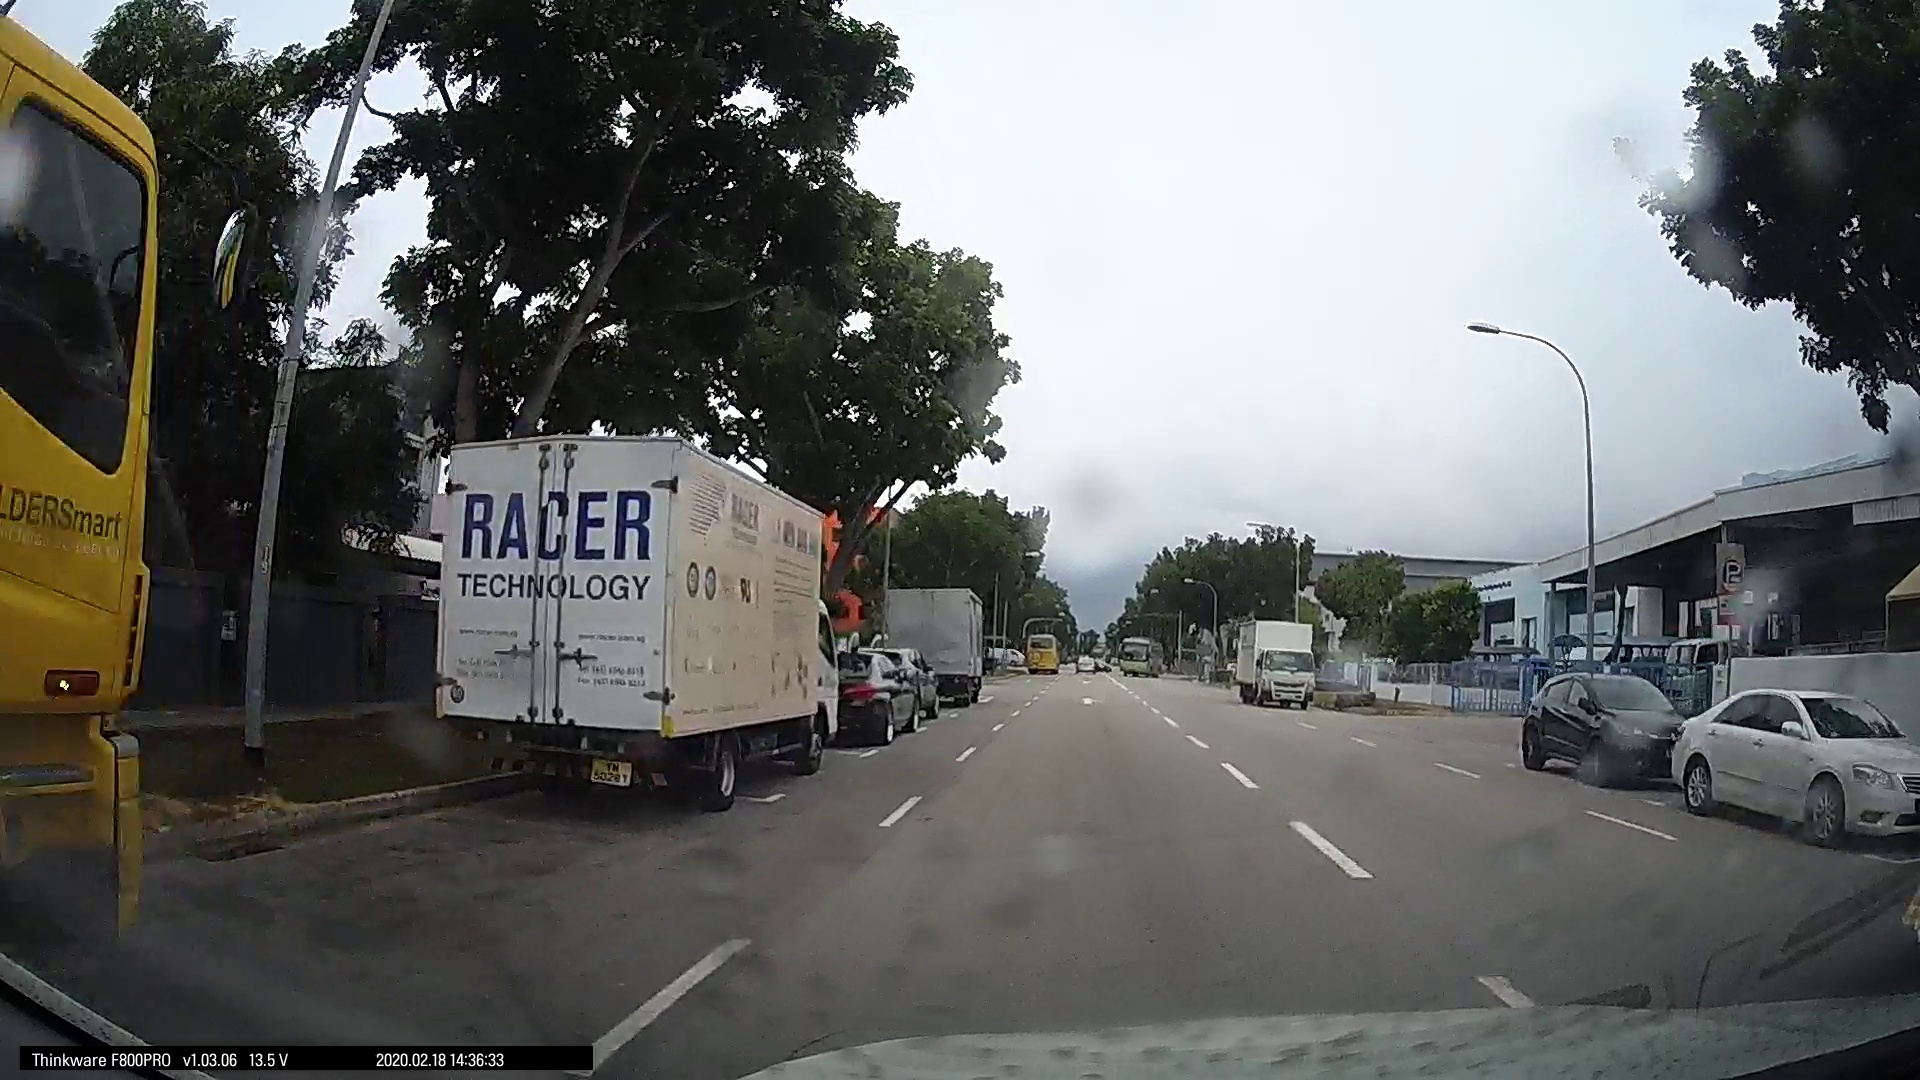Heavy Vehicle: (418, 436, 839, 808), (866, 576, 986, 709), (1230, 621, 1316, 709)
Light Vehicle: (1663, 676, 1912, 843), (1513, 663, 1683, 786), (831, 636, 924, 742), (1021, 625, 1062, 673)
